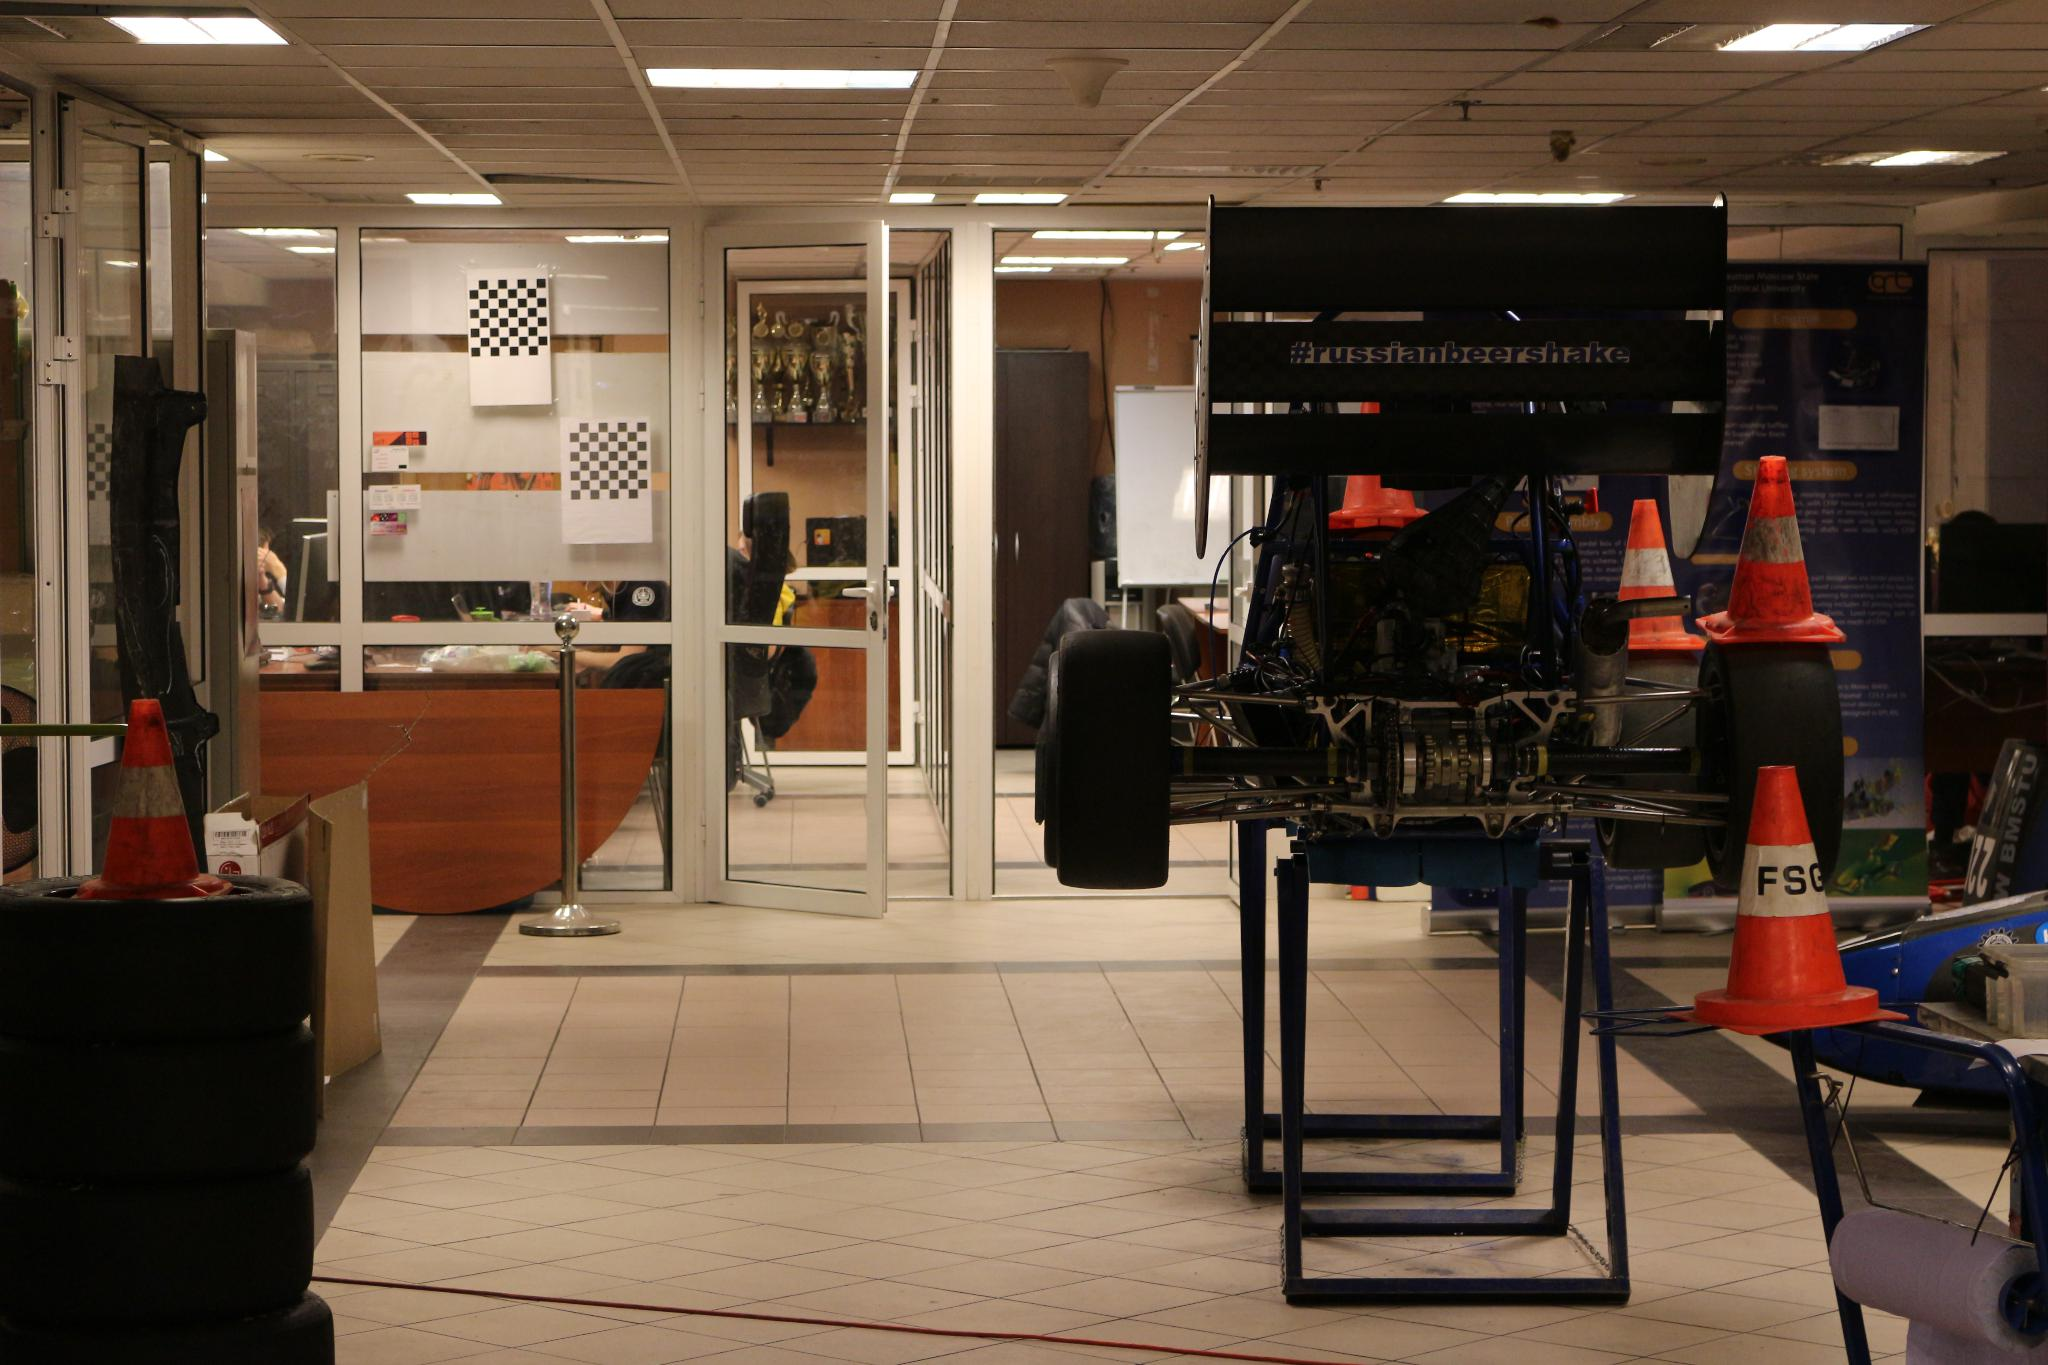Orange_Cone: (1699, 748, 1882, 1034), (91, 695, 238, 920), (1713, 449, 1852, 646), (1600, 484, 1715, 655)
